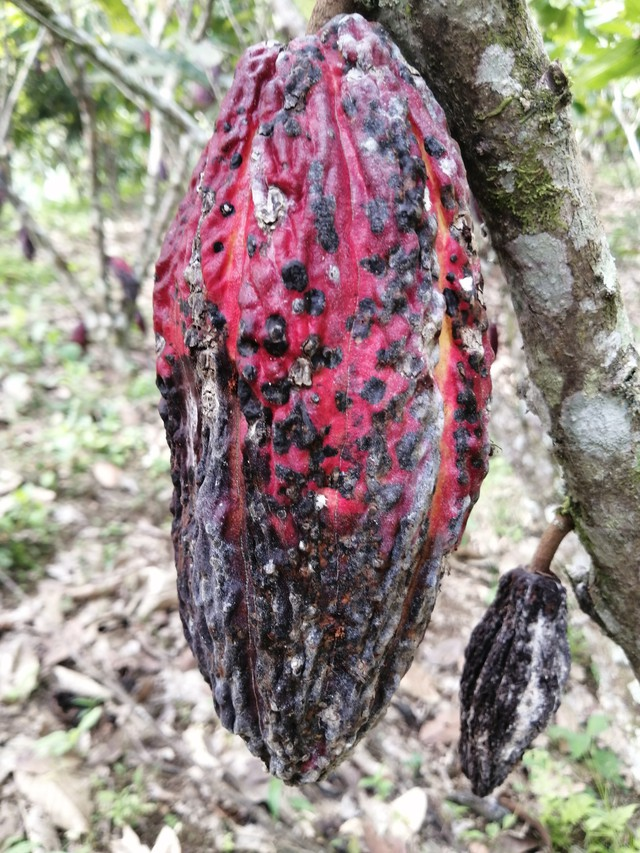moniliophthora roreri: (124, 8, 512, 798), (446, 560, 591, 803)
